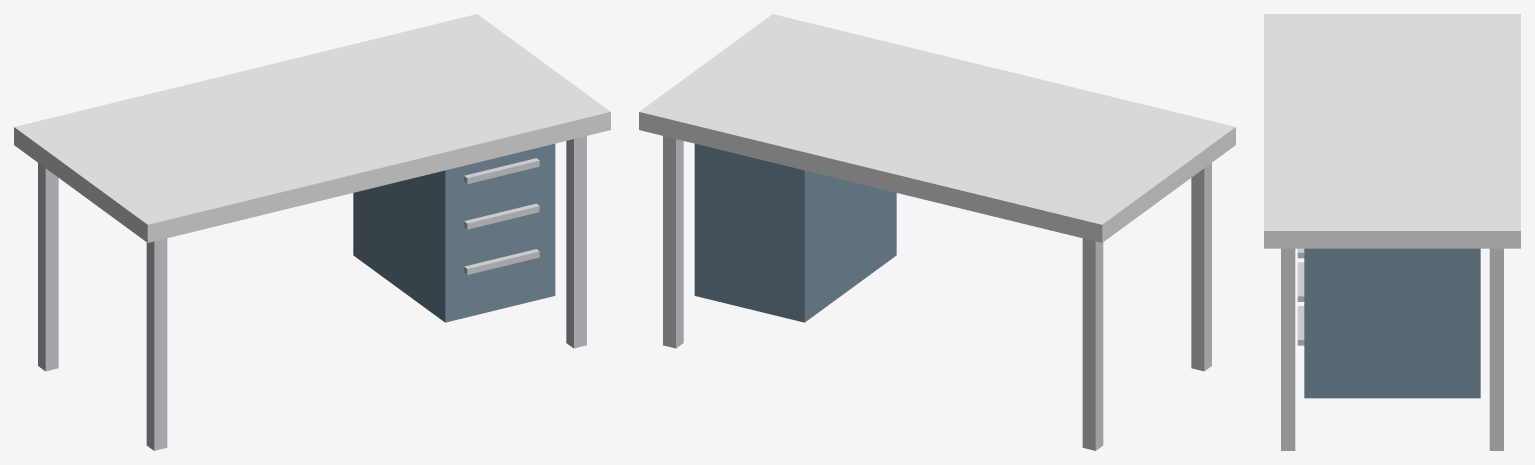
File: road-car-showroom-lineup-sales-desk-a5faf963__15133.glb
The picture shows the model from 3 angles, left to right: view 1: azimuth 30°, elevation 25°; view 2: azimuth 150°, elevation 25°; view 3: azimuth 270°, elevation 25°; orthographic projection. The views are drawn at different scales.
Visible parts, largest first — view 1: sales-desk; view 2: sales-desk; view 3: sales-desk.
Part boxes in pixels (x1,y1,x2,y2): sales-desk: (14, 14, 610, 450); sales-desk: (639, 14, 1235, 450); sales-desk: (1264, 14, 1520, 450).
Size of the model in its own units: 1.6 by 0.78 by 0.8001.
